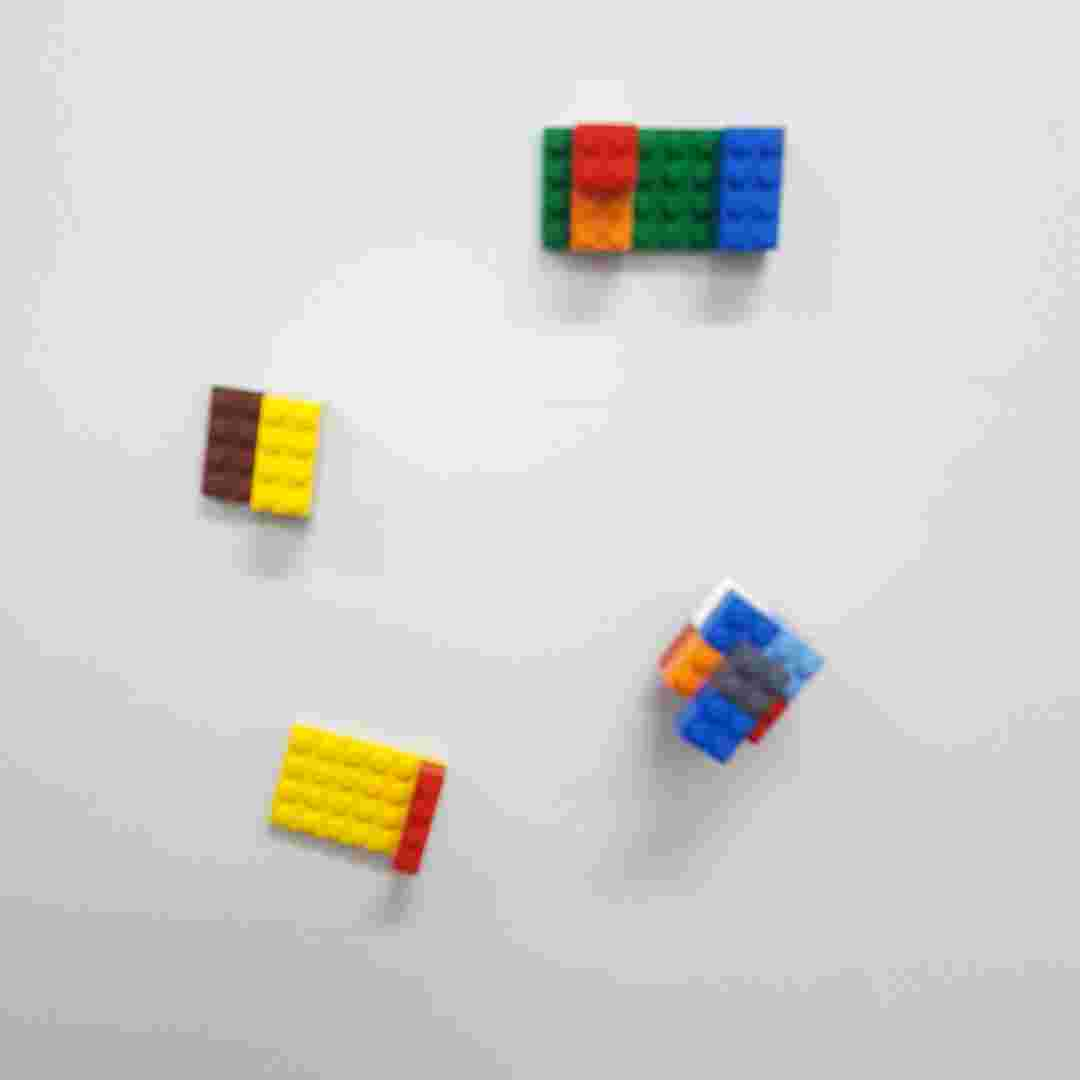LEGO: (532, 112, 809, 265), (657, 575, 825, 761), (267, 720, 449, 875), (192, 377, 330, 527)
